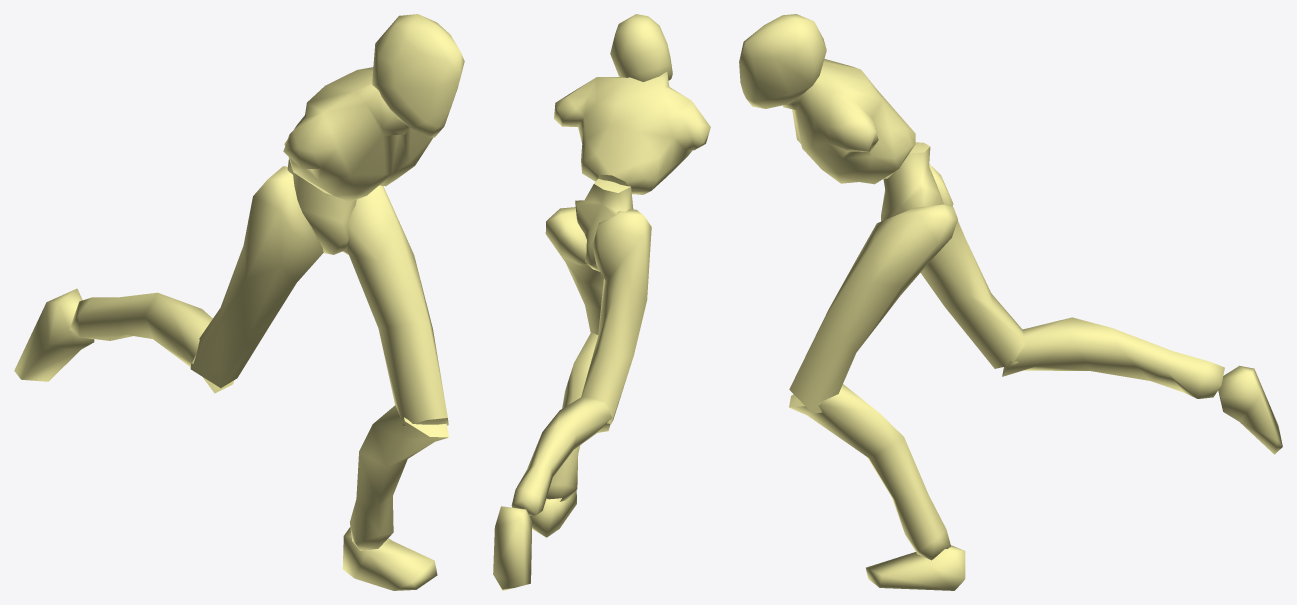
Rendered from filth22.obj.
3 views of the same model, side by side, from view 1: azimuth 30°, elevation 25°; view 2: azimuth 150°, elevation 25°; view 3: azimuth 270°, elevation 25° (orthographic). The views are drawn at different scales.
Parts seen in each view (by area): view 1: Melee_Husk; view 2: Melee_Husk; view 3: Melee_Husk.
Boxes of the visible parts, x1=… form: Melee_Husk: x1=14, y1=14, x2=464, y2=590; Melee_Husk: x1=493, y1=14, x2=710, y2=590; Melee_Husk: x1=739, y1=14, x2=1282, y2=590.
Bounding box in the file's own units: 22.2 × 67.41 × 59.84.
